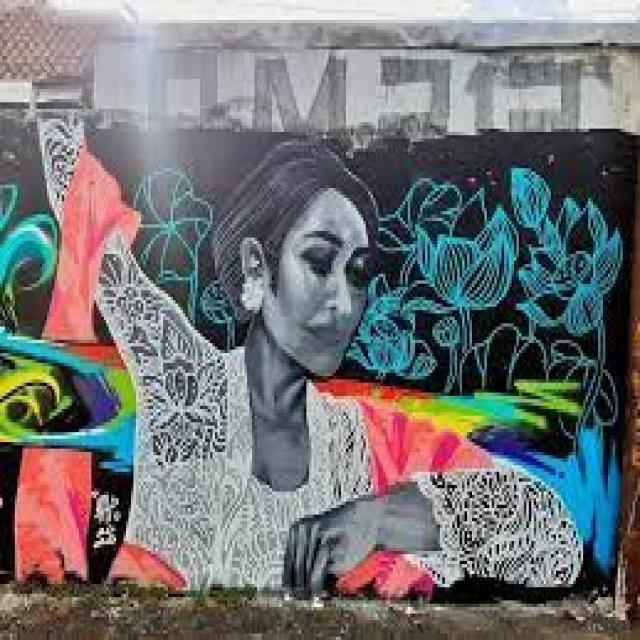-: (2, 115, 627, 600), (144, 44, 612, 124)
